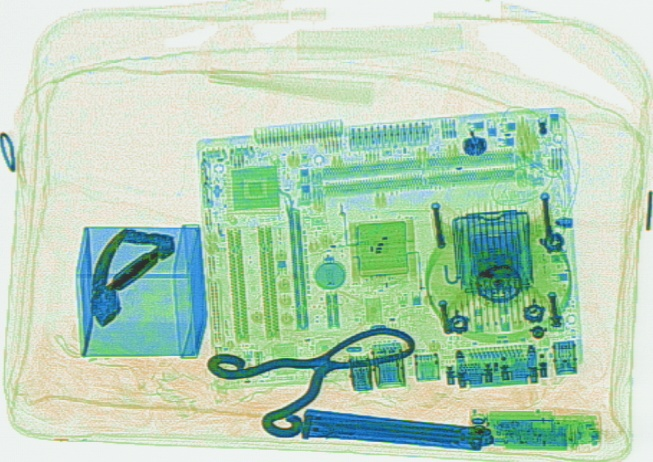knife: (300, 406, 485, 452)
slingshot: (204, 326, 415, 436)
